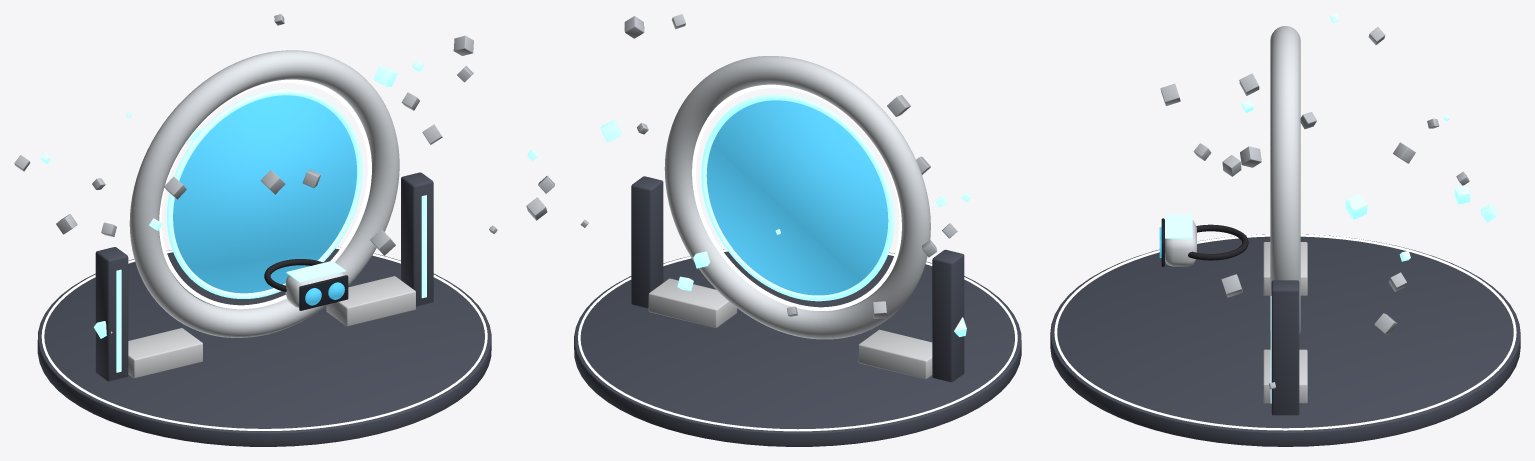
The model's file is experience.glb.
3 views of the same model, side by side, from view 1: azimuth 30°, elevation 25°; view 2: azimuth 150°, elevation 25°; view 3: azimuth 270°, elevation 25° (orthographic). The views are drawn at different scales.
Parts seen in each view (by area): view 1: experience_Graphite, experience_Glass, experience_Hull, experience_HullWarm, spin_PortalInner, experience_Steel, experience_Cyan, experience_WhiteLight, experience_Ice, experience_DarkPanel, experience_Rubber; view 2: experience_Graphite, experience_Glass, experience_Hull, experience_HullWarm, spin_PortalInner, experience_WhiteLight, experience_Steel, experience_Ice, experience_Cyan; view 3: experience_Graphite, experience_Hull, experience_Steel, experience_Ice, experience_Cyan, experience_HullWarm, experience_Rubber.
Boxes of the visible parts, x1=… form: experience_Graphite: x1=37, y1=172, x2=491, y2=446; experience_Glass: x1=173, y1=95, x2=356, y2=305; experience_Hull: x1=129, y1=50, x2=399, y2=337; experience_HullWarm: x1=128, y1=276, x2=415, y2=378; spin_PortalInner: x1=166, y1=89, x2=362, y2=298; experience_Steel: x1=14, y1=14, x2=497, y2=255; experience_Cyan: x1=40, y1=60, x2=426, y2=372; experience_WhiteLight: x1=159, y1=79, x2=371, y2=309; experience_Ice: x1=41, y1=246, x2=487, y2=430; experience_DarkPanel: x1=299, y1=275, x2=348, y2=310; experience_Rubber: x1=264, y1=259, x2=323, y2=291; experience_Graphite: x1=574, y1=176, x2=1021, y2=446; experience_Glass: x1=706, y1=100, x2=888, y2=295; experience_Hull: x1=664, y1=56, x2=930, y2=339; experience_HullWarm: x1=648, y1=278, x2=932, y2=379; spin_PortalInner: x1=701, y1=94, x2=894, y2=301; experience_WhiteLight: x1=692, y1=84, x2=901, y2=310; experience_Steel: x1=526, y1=14, x2=957, y2=318; experience_Ice: x1=578, y1=249, x2=1017, y2=431; experience_Cyan: x1=527, y1=119, x2=971, y2=336; experience_Graphite: x1=1050, y1=234, x2=1520, y2=446; experience_Hull: x1=1165, y1=26, x2=1300, y2=333; experience_Steel: x1=1160, y1=27, x2=1469, y2=389; experience_Ice: x1=1054, y1=234, x2=1516, y2=430; experience_Cyan: x1=1165, y1=14, x2=1496, y2=403; experience_HullWarm: x1=1263, y1=242, x2=1307, y2=403; experience_Rubber: x1=1188, y1=224, x2=1248, y2=260.
Bounding box in the file's own units: 18.67 × 12.25 × 17.
